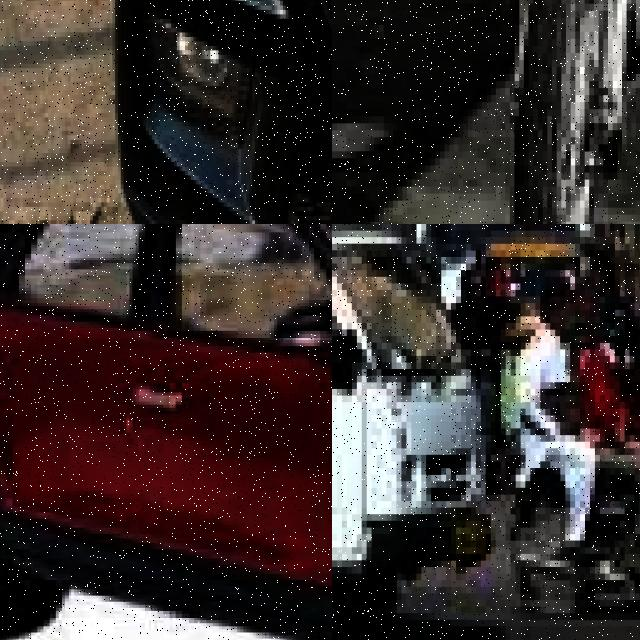bike: (449, 0, 640, 224), (510, 421, 640, 640)
car: (0, 224, 332, 640), (115, 0, 332, 224)
